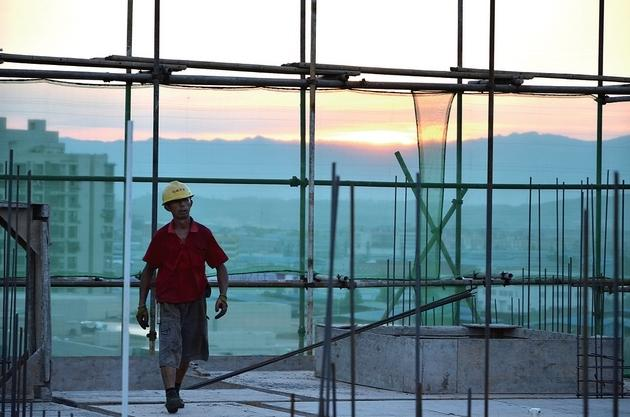helmet: (160, 182, 197, 207)
no_wear: (156, 226, 211, 305)
